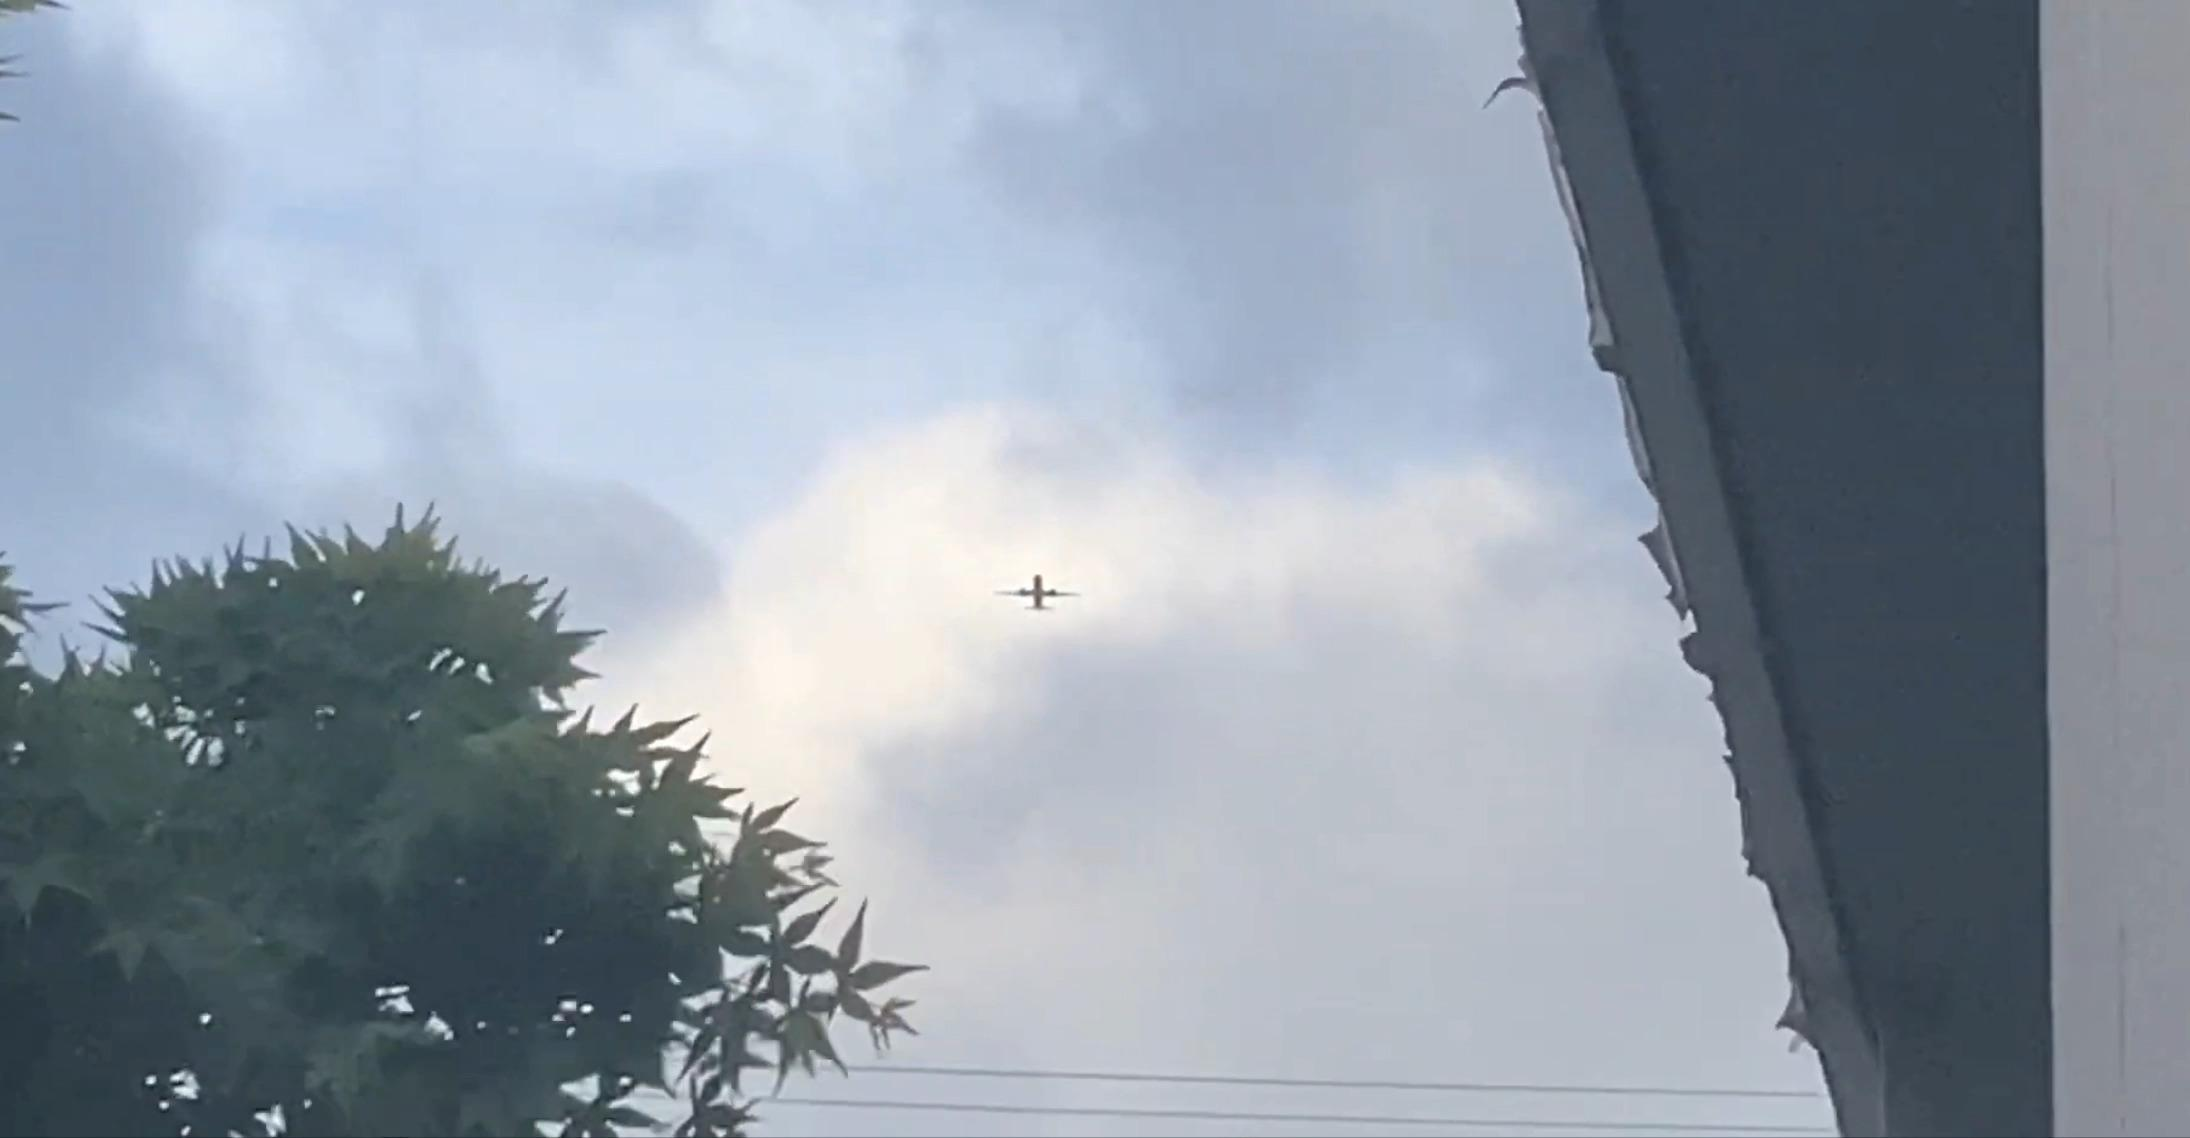Plane: (968, 562, 1107, 631)
